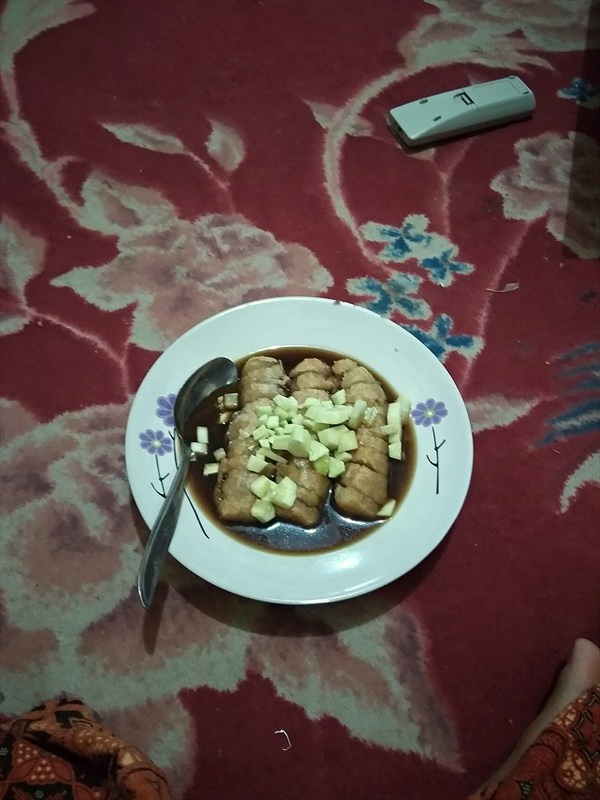Pempek: (125, 199, 482, 615)
